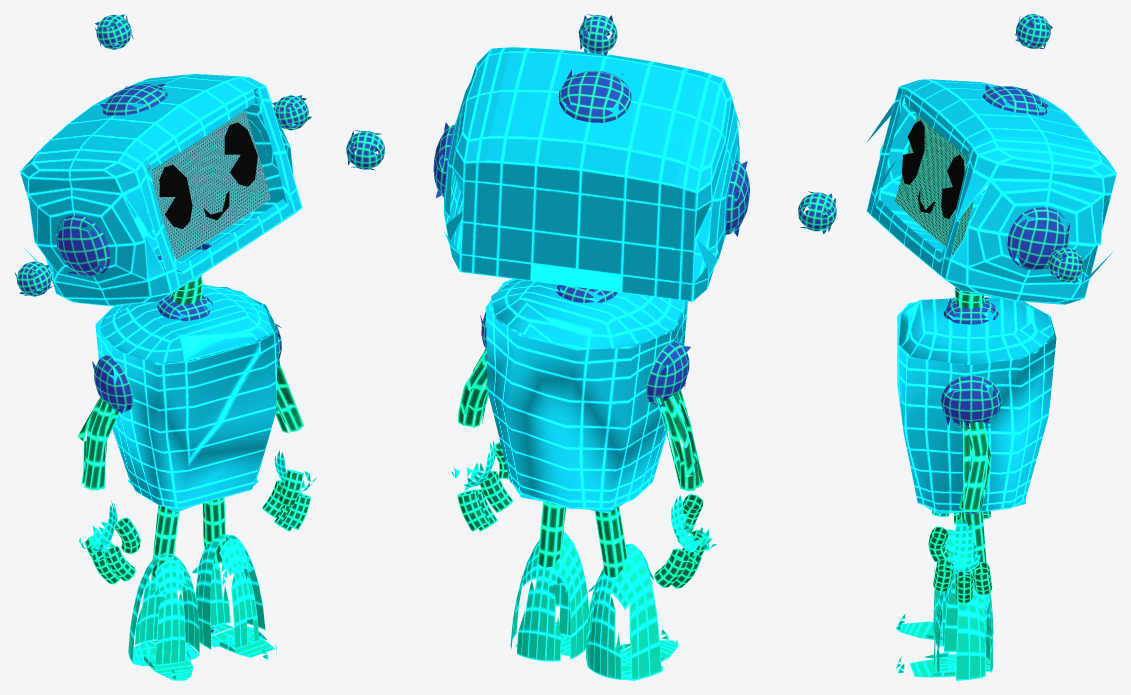
The model's file is hazard_bot.glb.
3 renders of one model, left to right at view 1: azimuth 30°, elevation 25°; view 2: azimuth 150°, elevation 25°; view 3: azimuth 270°, elevation 25°, orthographic. The views are drawn at different scales.
Visible parts, largest first — view 1: hazard_bot; view 2: hazard_bot; view 3: hazard_bot.
Boxes of the visible parts, x1=… form: hazard_bot: x1=14, y1=14, x2=316, y2=680; hazard_bot: x1=346, y1=14, x2=836, y2=680; hazard_bot: x1=866, y1=14, x2=1116, y2=680.
Bounding box in the file's own units: 1.61 × 2.6 × 0.9692.
1 material, 1 textured.
